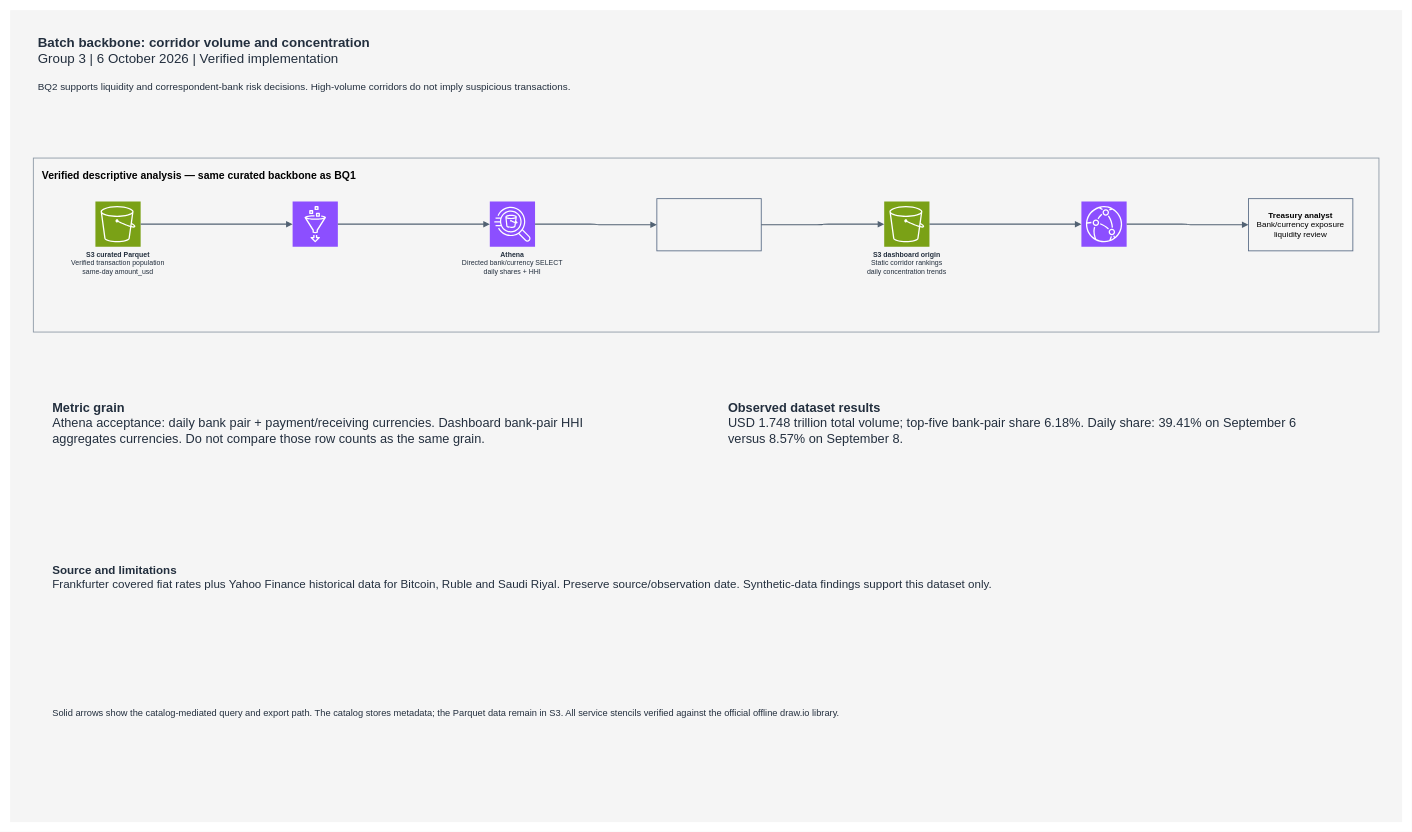
This 1412x832 diagram has some shape labels left out. Each missing label, with the centre of its shape:
"CloudFront Public HTTPS dashboard private S3 origin" goes at pixel 1104 224.
"Glue catalog Explicit schema date partition projection" goes at pixel 315 224.
"Local reconciliation Counts and USD totals 1,082,185 daily corridor rows" goes at pixel 708 224.
